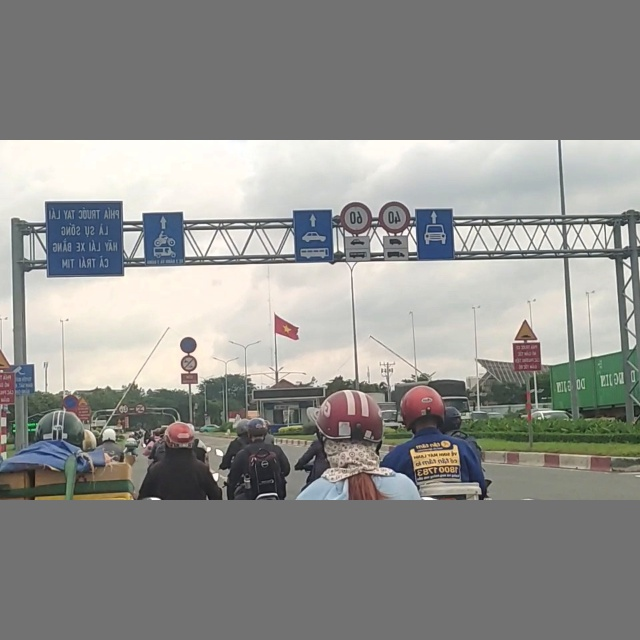Camera: (13, 363, 35, 395)
P.107: (118, 403, 129, 414), (135, 403, 145, 414)
P.111: (180, 355, 197, 371)
P.127*40: (379, 201, 410, 233)
P.127*60: (341, 203, 372, 235)
P.130: (179, 337, 197, 353)
P.131a: (63, 395, 79, 409)
W.221b: (515, 319, 538, 340), (79, 396, 89, 406)
